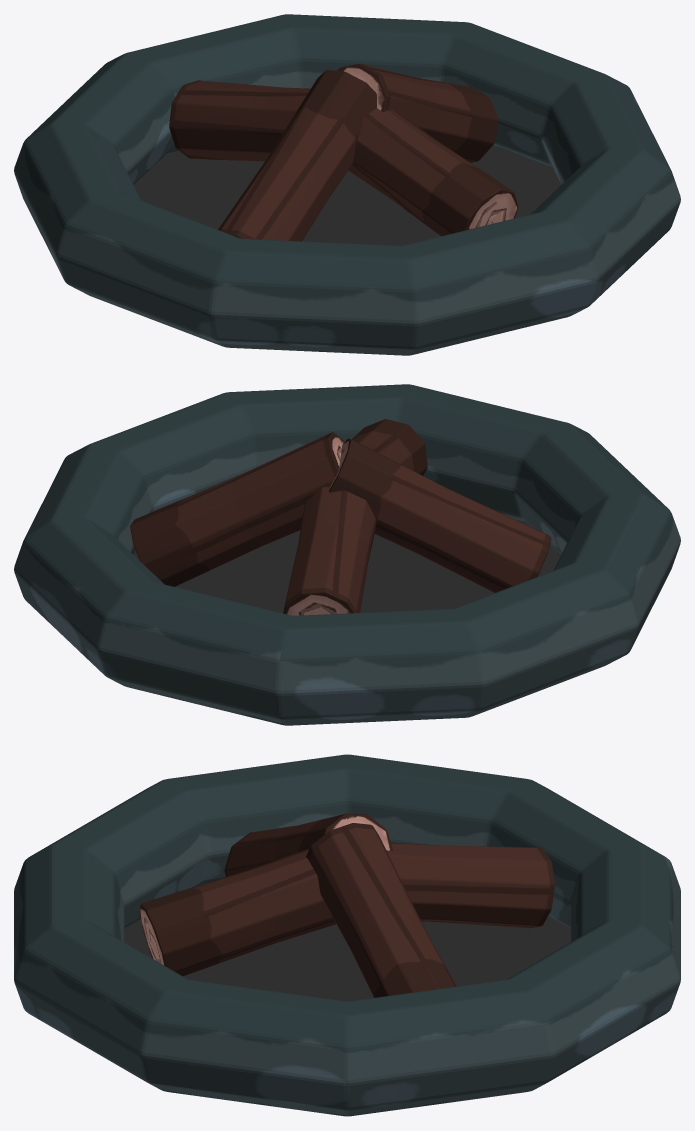
The model's file is fire.fbx.
3 renders of one model, top to bottom at view 1: azimuth 30°, elevation 25°; view 2: azimuth 150°, elevation 25°; view 3: azimuth 270°, elevation 25°, orthographic. The views are drawn at different scales.
Parts seen in each view (by area): view 1: pTorus1, pDisc1, pCylinder4, pCylinder1, pCylinder3, pCylinder2; view 2: pTorus1, pCylinder2, pCylinder4, pDisc1, pCylinder3, pCylinder1; view 3: pTorus1, pDisc1, pCylinder1, pCylinder2, pCylinder3, pCylinder4.
Part boxes in pixels (x1,y1,x2,y2): pTorus1: [14, 14, 680, 355]; pDisc1: [134, 145, 560, 245]; pCylinder4: [218, 70, 376, 241]; pCylinder1: [348, 108, 518, 236]; pCylinder3: [169, 80, 310, 161]; pCylinder2: [337, 63, 498, 162]; pTorus1: [14, 384, 680, 725]; pCylinder2: [130, 432, 344, 586]; pCylinder4: [329, 438, 551, 592]; pDisc1: [134, 521, 560, 613]; pCylinder3: [283, 486, 376, 615]; pCylinder1: [352, 419, 427, 475]; pTorus1: [14, 754, 680, 1116]; pDisc1: [124, 916, 570, 1001]; pCylinder1: [139, 848, 336, 976]; pCylinder2: [306, 823, 456, 997]; pCylinder3: [386, 842, 554, 928]; pCylinder4: [224, 813, 393, 876].
Bounding box in the file's own units: 26.67 × 7.18 × 25.4.
